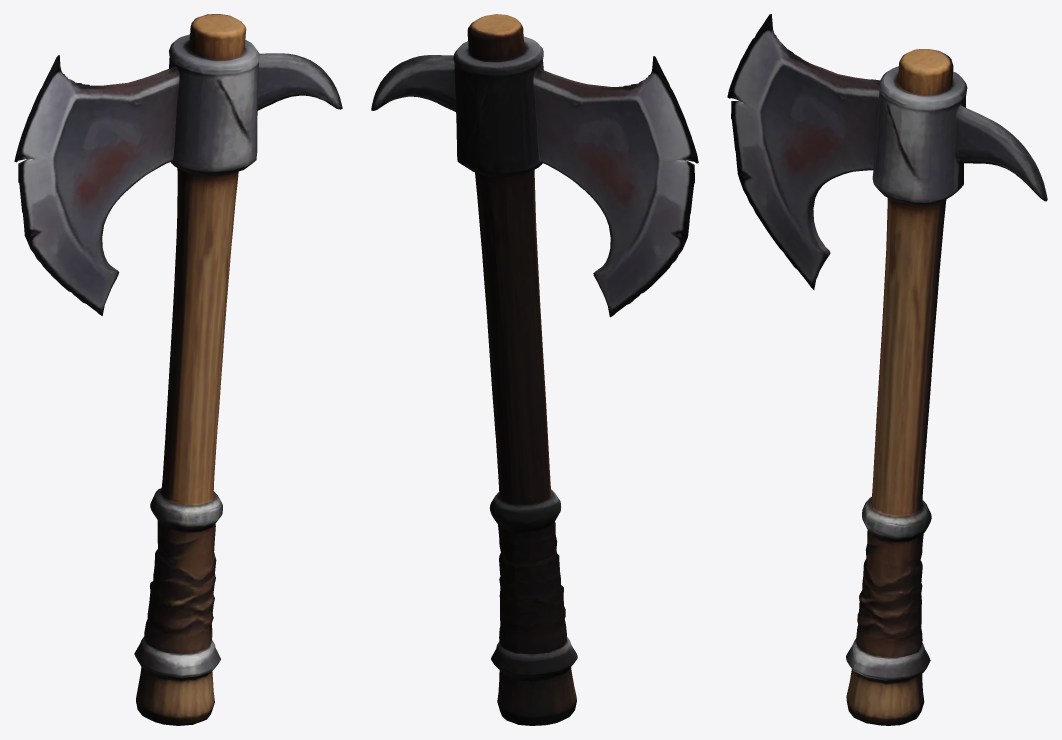
Rendered from hand_axe.glb.
The picture shows the model from 3 angles, left to right: view 1: azimuth 30°, elevation 25°; view 2: azimuth 150°, elevation 25°; view 3: azimuth 330°, elevation 25°; orthographic projection. The views are drawn at different scales.
Parts seen in each view (by area): view 1: world; view 2: world; view 3: world.
Boxes of the visible parts, x1,y1,x2,y2 form: world: [14, 14, 342, 725]; world: [371, 14, 698, 725]; world: [727, 14, 1047, 725].
Size of the model in its own units: 0.3493 by 0.7 by 0.0841.
1 material, 1 textured.
